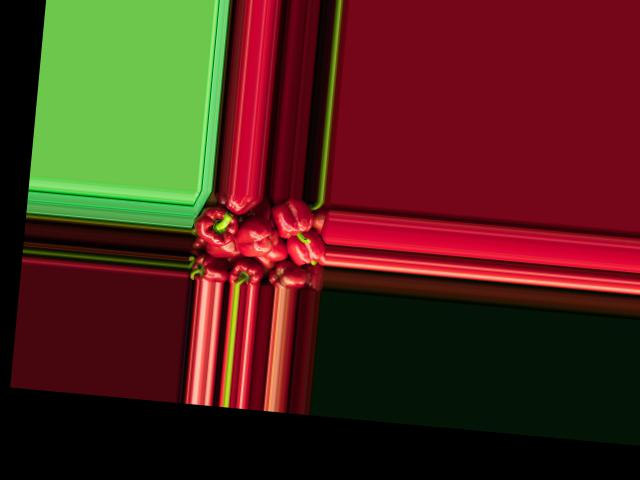bell_pepper: (189, 253, 228, 283)
